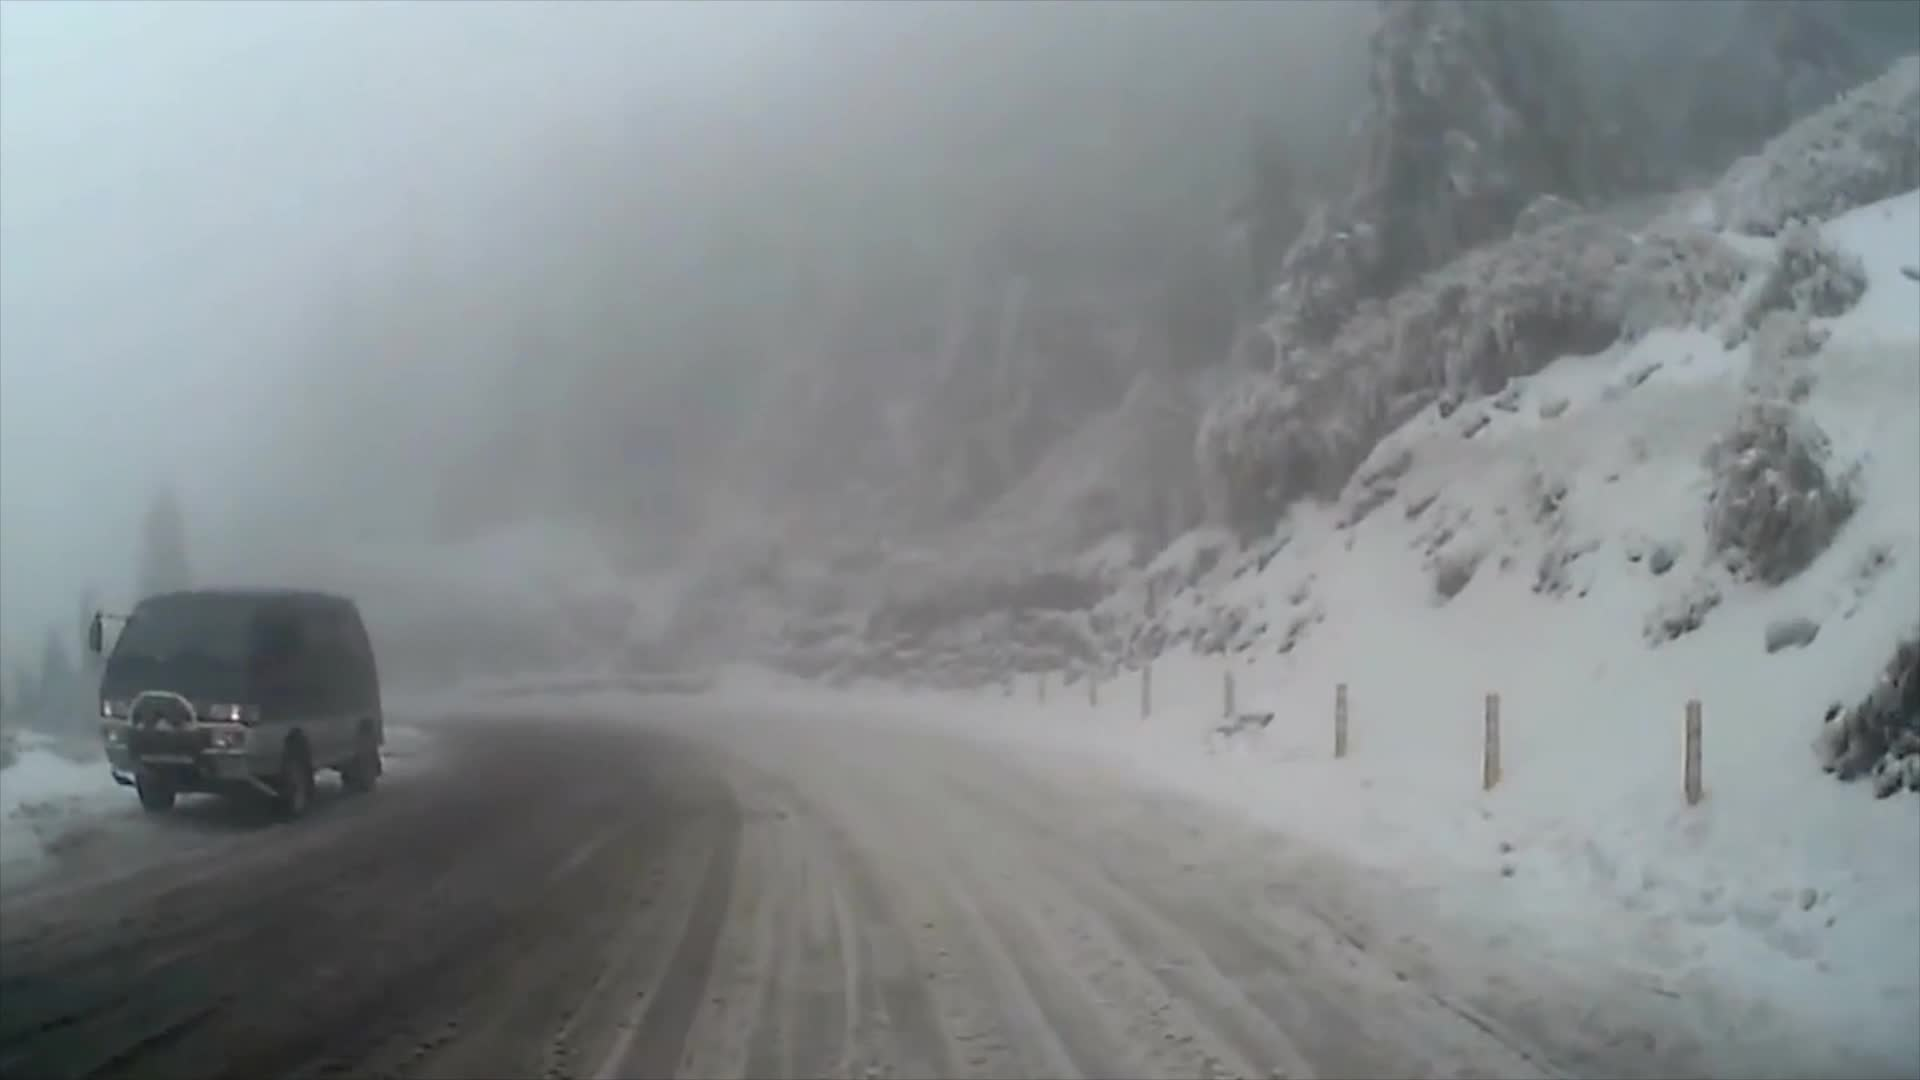vehicle: (84, 587, 384, 823)
